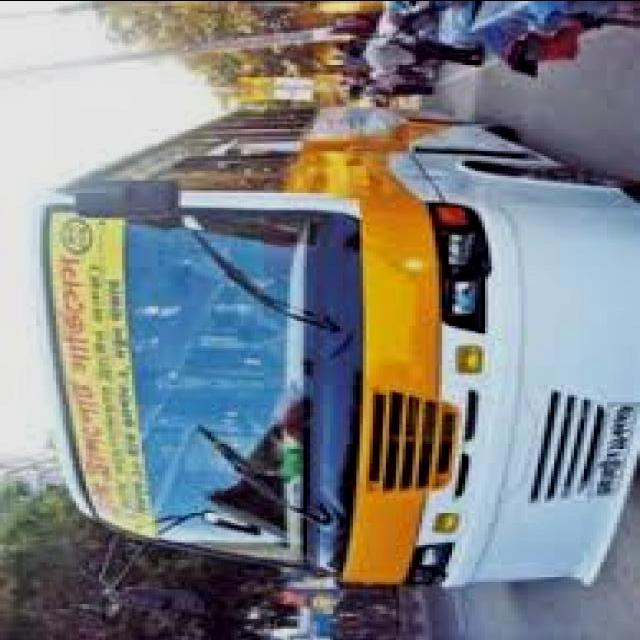bus: (28, 102, 638, 612)
